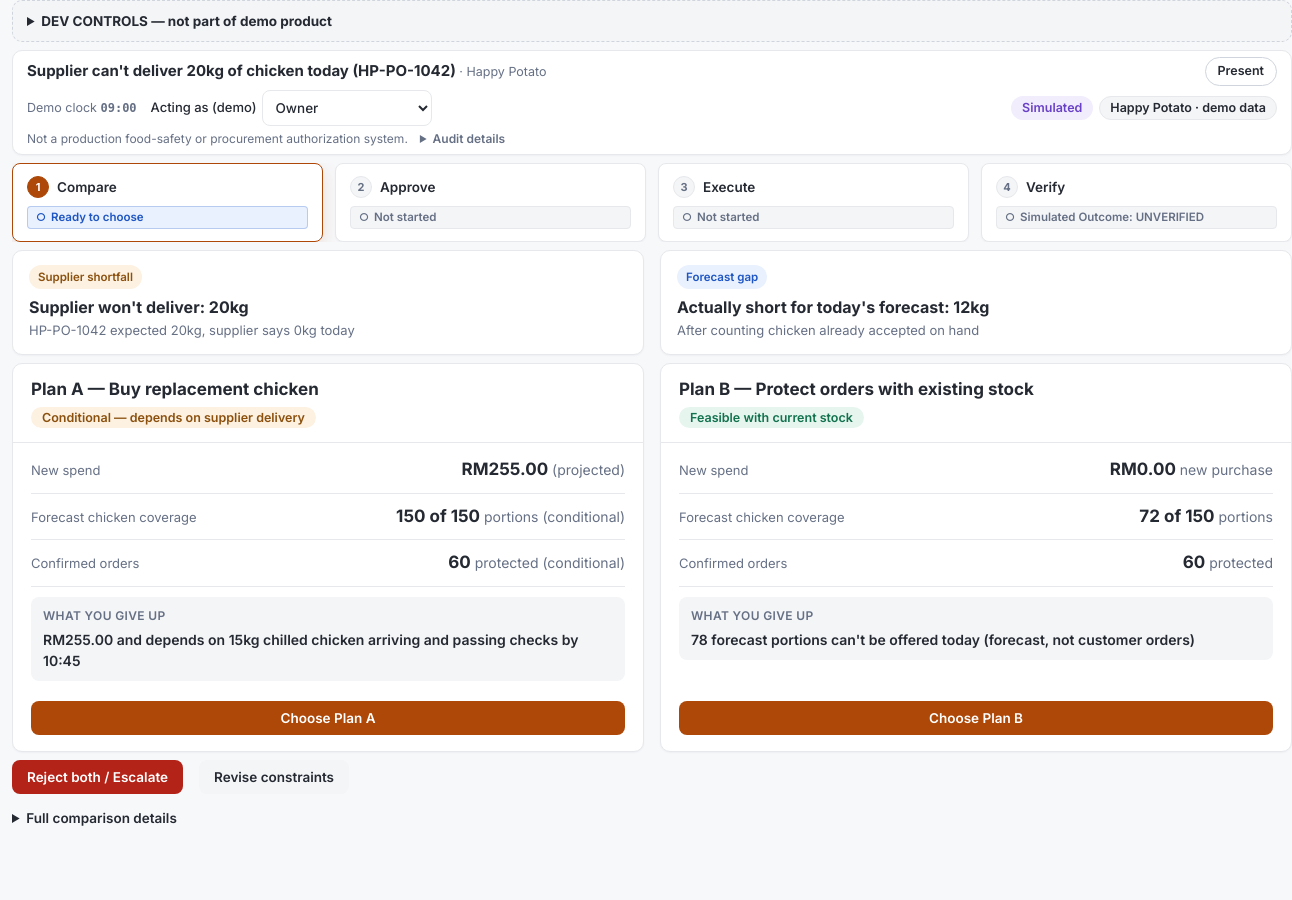
Test: Recovery Comparison › Choose B saves selection only — no approval, no tasks (P5-T03/T04)
Click the button "Choose Plan B" at (976, 718), box [679, 701, 1273, 735]
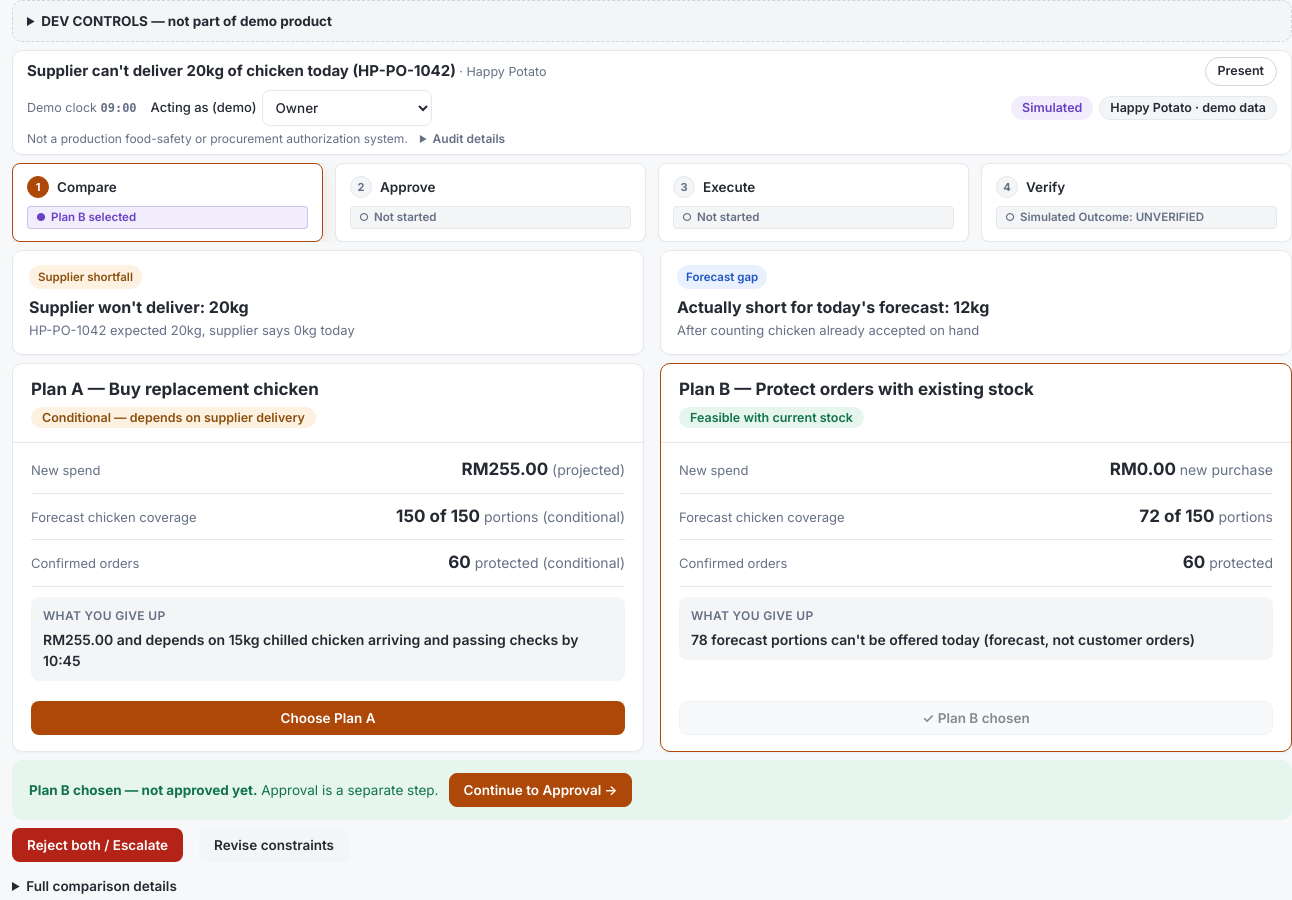
Now the link to "/approvals" is shown, box [448, 773, 632, 807]
